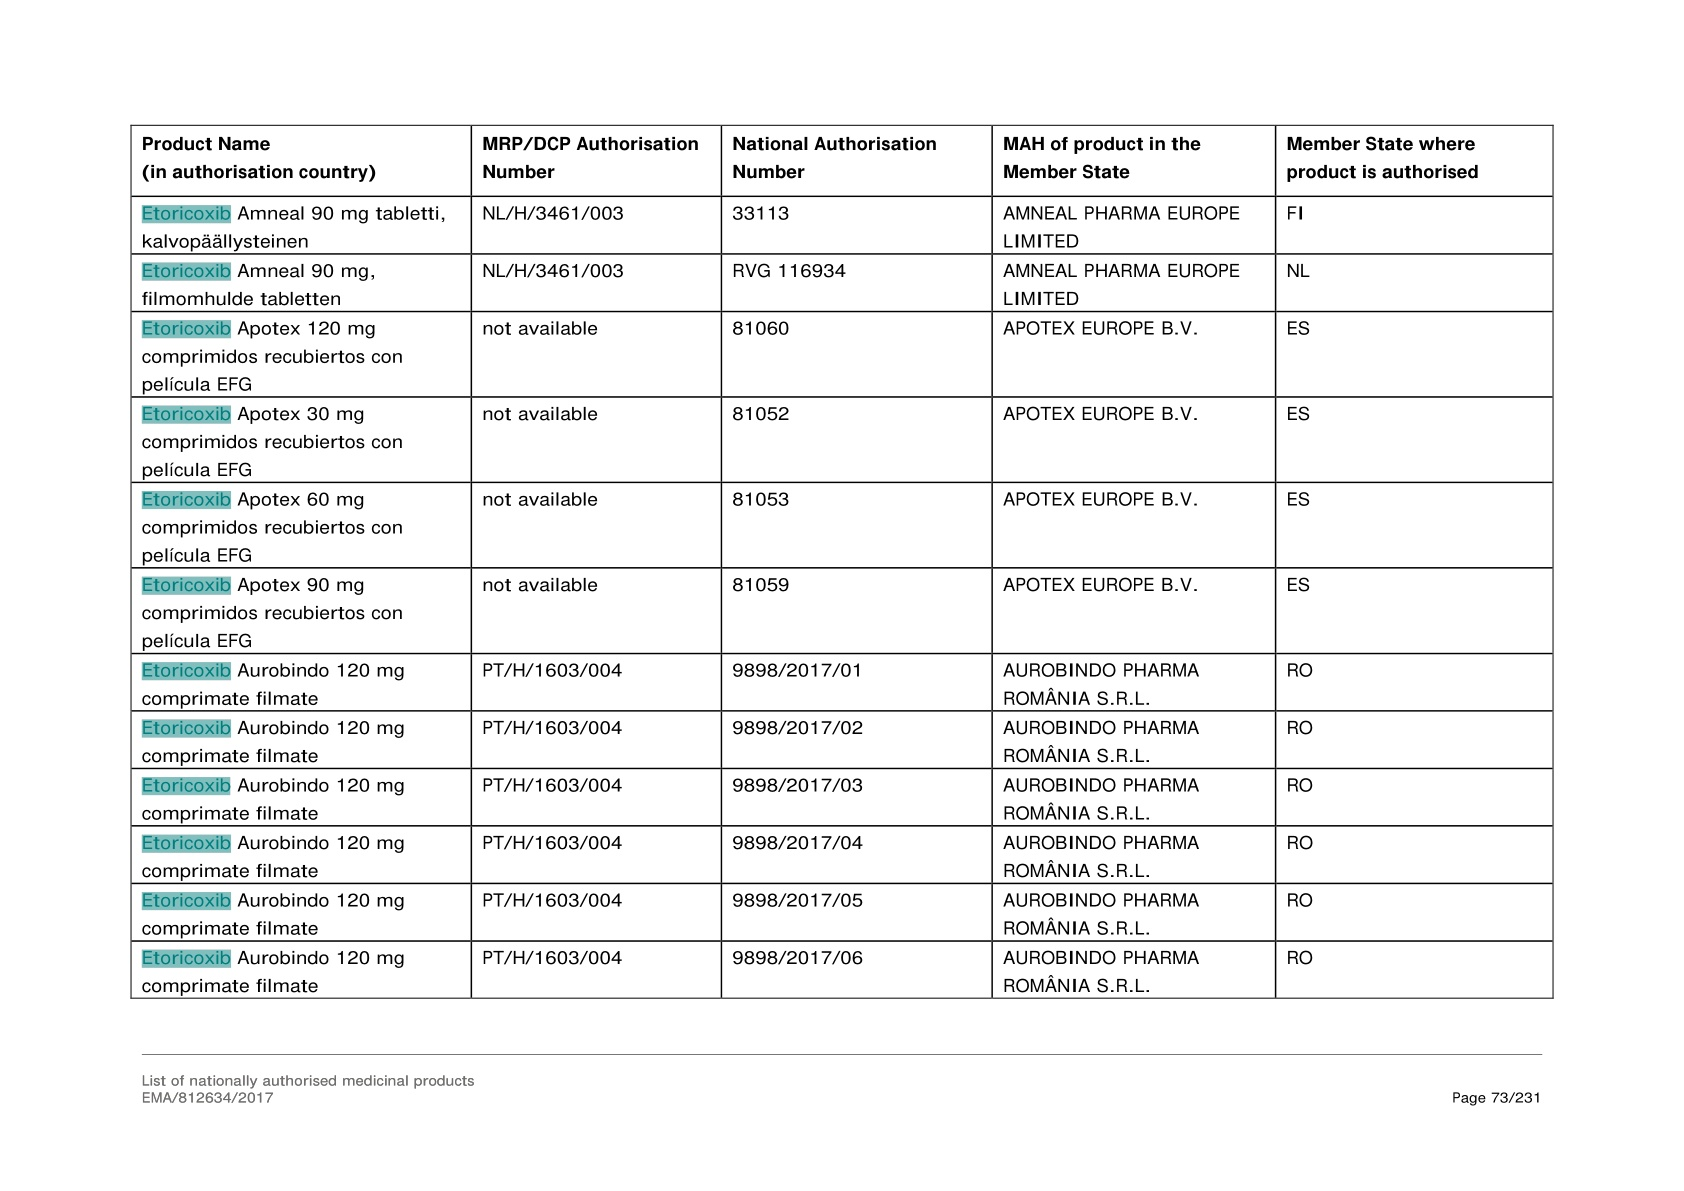full_lined: (129, 122, 1555, 1000)
